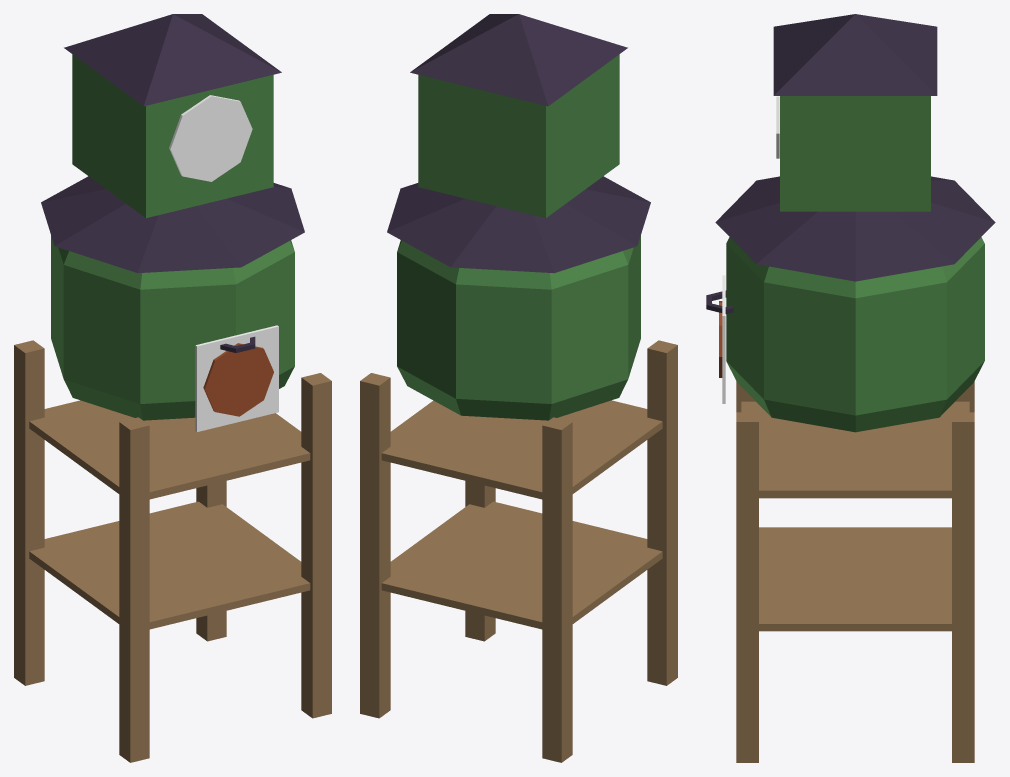
File: wildwest-g3.glb
The picture shows the model from 3 angles, left to right: view 1: azimuth 30°, elevation 25°; view 2: azimuth 150°, elevation 25°; view 3: azimuth 270°, elevation 25°; orthographic projection. The views are drawn at different scales.
Parts seen in each view (by area): view 1: wildwest-g3; view 2: wildwest-g3; view 3: wildwest-g3.
Part boxes in pixels (<box>): wildwest-g3: <box>14,14,331,762</box>; wildwest-g3: <box>360,14,677,762</box>; wildwest-g3: <box>706,14,995,762</box>.
Bounding box in the file's own units: 1.72 × 4.72 × 1.77.
